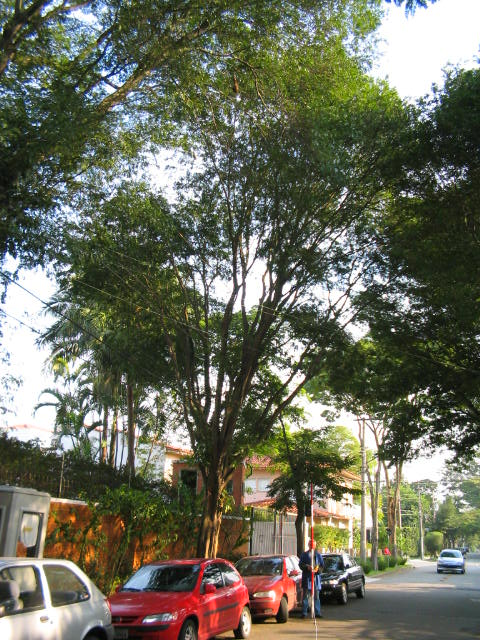crown: (92, 52, 395, 324)
stick: (303, 479, 320, 618)
tree: (90, 50, 399, 620)
